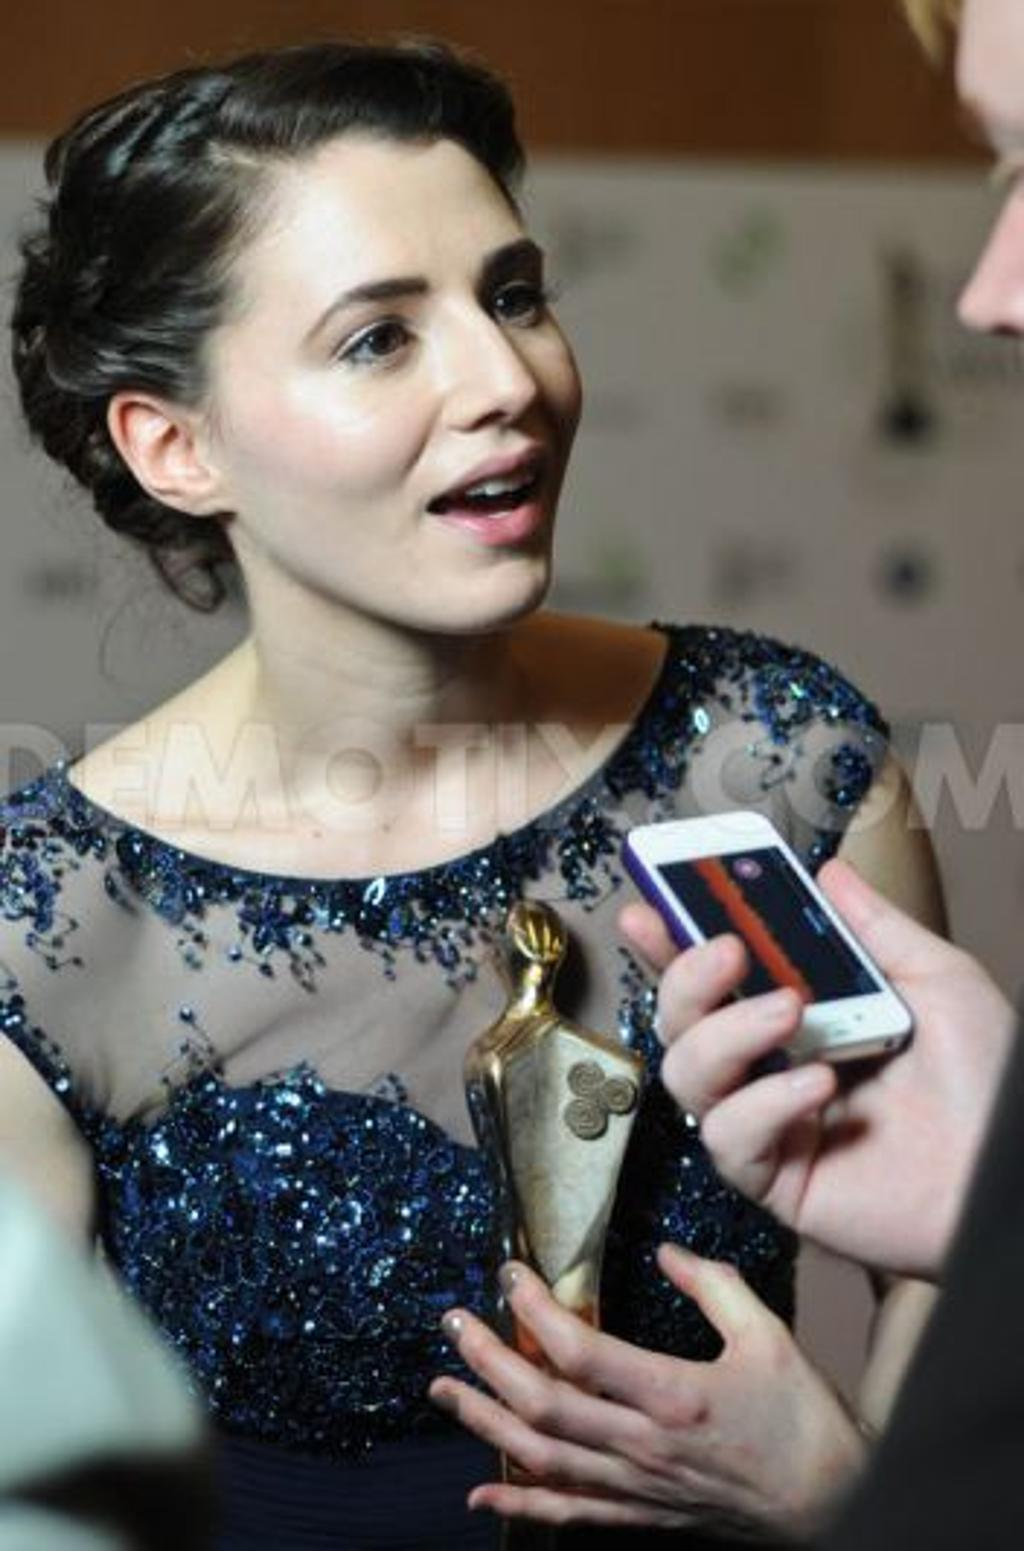face: (230, 115, 578, 627)
